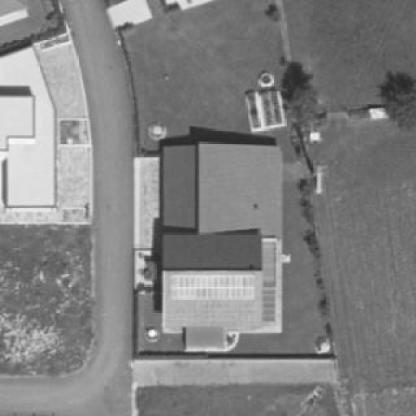solar-pv-panel: (172, 275, 255, 300)
